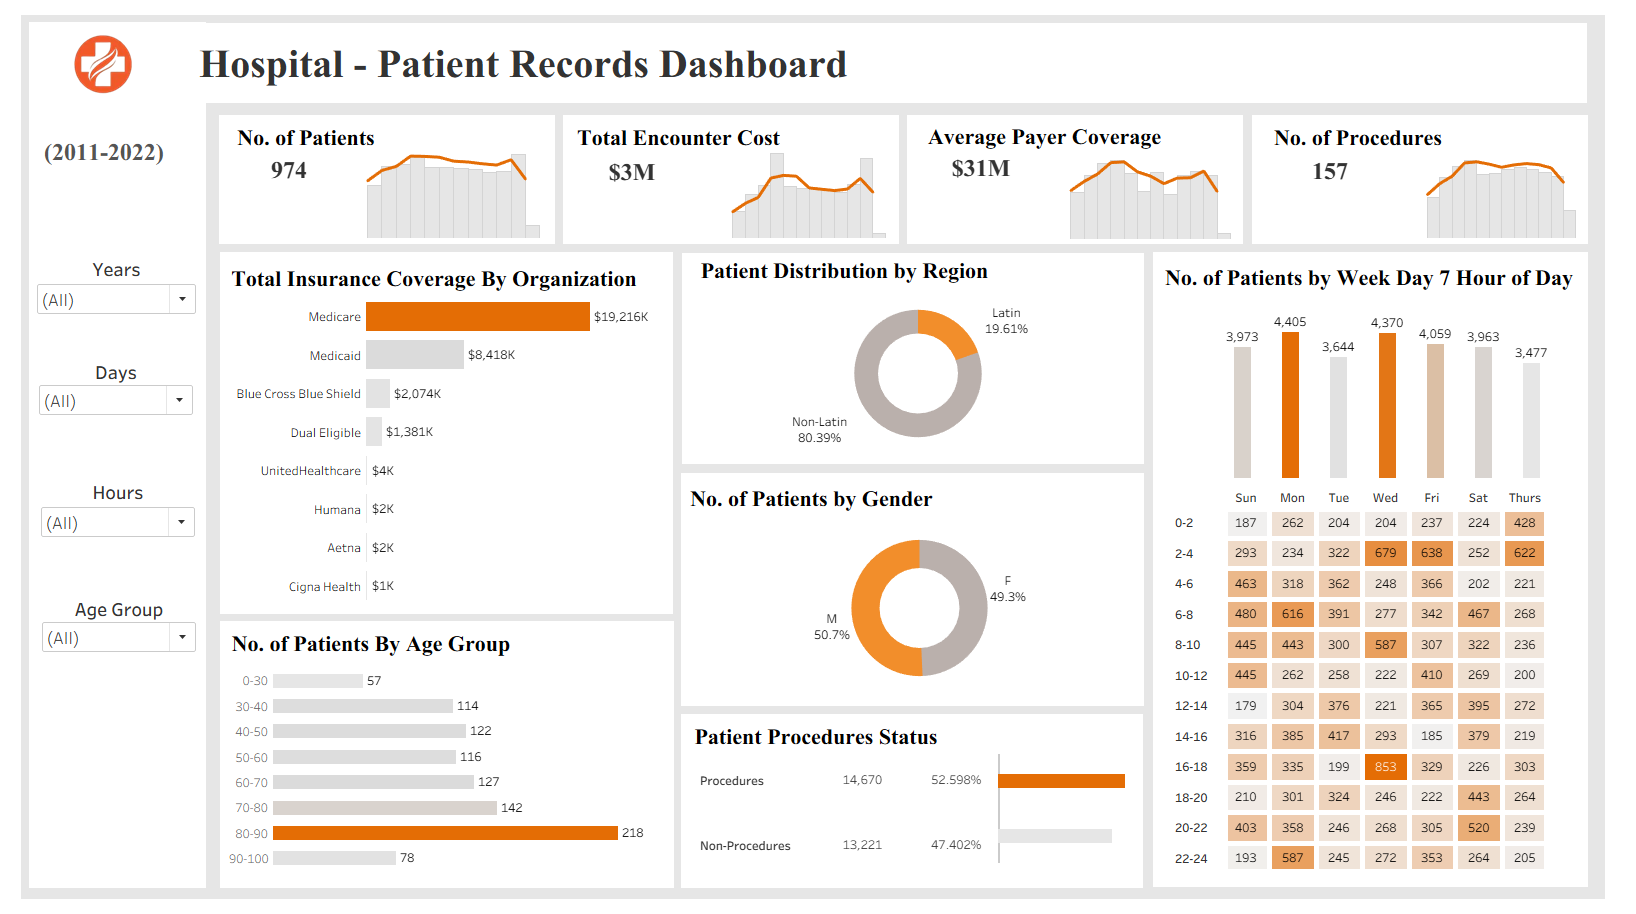

What the dashboard file says about the page in this screenshot:
{"tool":"tableau","page":{"name":"Dashboard 1","canvas":[1600,900],"ordinal":0},"visuals":[{"type":"image","param":"C:/Users/vshivani/Desktop/shivani/Tableau/9. Hospital Patient Records/images/log","box":[55,23,73,66]},{"type":"text","box":[180,32,661,50]},{"type":"text","box":[896,110,271,40]},{"type":"text","box":[1245,110,200,42]},{"type":"text","box":[210,112,166,38]},{"type":"text","box":[559,112,213,37]},{"type":"text","box":[27,130,126,31]},{"type":"worksheet","title":"Total Encounters cost vs year","mark":"Bar","rows":["BASE_ENCOUNTER_COST","BASE_ENCOUNTER_COST"],"cols":["START"],"box":[710,142,170,89]},{"type":"worksheet","title":"Avg payer coverage","mark":"Automatic","box":[911,142,113,40]},{"type":"worksheet","title":"No. of Procedures","mark":"Automatic","box":[1274,142,85,46]},{"type":"worksheet","title":"No. of Patients","mark":"Automatic","box":[228,143,95,41]},{"type":"worksheet","title":"No. of patients vs year","mark":"Bar","rows":["Id (patients.csv)","Calculation_93168222811037714"],"cols":["START"],"box":[344,143,191,88]},{"type":"worksheet","title":"Total Encounter Cost","mark":"Automatic","box":[573,147,92,37]},{"type":"worksheet","title":"Avg payer coverage vs year","mark":"Bar","rows":["PAYER_COVERAGE","PAYER_COVERAGE"],"cols":["START"],"box":[1048,149,177,83]},{"type":"worksheet","title":"No. of Procedures vs year","mark":"Bar","rows":["CODE (procedures.csv)","CODE (procedures.csv)"],"cols":["START (procedures.csv)"],"box":[1405,149,165,82]},{"type":"worksheet","title":"No. of patients %","mark":"Automatic","cols":["START"],"box":[200,174,149,46]},{"type":"worksheet","title":"Avg Payer coverage %","mark":"Automatic","cols":["START"],"box":[909,176,125,37]},{"type":"worksheet","title":"No. of procedures %","mark":"Automatic","cols":["START"],"box":[1251,179,135,37]},{"type":"worksheet","title":"Total Encounters cost %","mark":"Automatic","cols":["START"],"box":[561,181,138,36]},{"type":"filter","title":"No. of Patients","param":"[federated.0jm8h8t0hru3ty1a563c91vnn6gc].[yr:START:ok]","box":[21,249,165,60]},{"type":"text","box":[675,250,313,28]},{"type":"text","box":[1144,252,424,38]},{"type":"text","box":[213,258,416,28]},{"type":"worksheet","title":"patient distribution by Region","mark":"Pie","rows":["Calculation_93168222789865487","Calculation_93168222789865487"],"box":[758,281,294,171]},{"type":"worksheet","title":"Total insurance Coverage by Organization","mark":"Automatic","rows":["NAME (payers.csv)"],"cols":["PAYER_COVERAGE"],"box":[213,290,438,308]},{"type":"worksheet","title":"No. of Patients by week ","mark":"Automatic","rows":["PATIENT"],"cols":["Calculation_93168222827048983"],"box":[1205,301,338,170]},{"type":"filter","title":"No. of Patients by week ","param":"[federated.0jm8h8t0hru3ty1a563c91vnn6gc].[none:Calculation_93168222827048983:nk]","box":[23,352,160,56]},{"type":"filter","title":"No. of patients by hours ","param":"[federated.0jm8h8t0hru3ty1a563c91vnn6gc].[none:patients encounter hours (bin):ok","box":[25,472,160,61]},{"type":"text","box":[672,473,253,37]},{"type":"worksheet","title":"No. of patients by hours ","mark":"Square","rows":["patients encounter hours (bin)"],"cols":["Calculation_93168222827048983"],"box":[1154,478,384,391]},{"type":"worksheet","title":"No. of Patients by Gender","mark":"Pie","rows":["Calculation_93168222789865487","Calculation_93168222789865487"],"box":[757,507,299,188]},{"type":"filter","title":"No. of patients by age groups","param":"[federated.0jm8h8t0hru3ty1a563c91vnn6gc].[none: patients ages (bin):ok]","box":[26,589,160,57]},{"type":"text","box":[213,620,290,33]},{"type":"worksheet","title":"No. of patients by age groups","mark":"Automatic","rows":[" patients ages (bin)"],"cols":["Calculation_93168222819340310"],"box":[216,661,436,203]},{"type":"text","box":[677,714,252,31]},{"type":"worksheet","title":"patient procedures status values","mark":"Text","rows":["Calculation_93168222813429780"],"box":[681,741,291,129]},{"type":"worksheet","title":"Patient Procedures Status","mark":"Bar","rows":["Calculation_93168222813429780"],"cols":["PATIENT"],"box":[985,747,133,109]}]}

Visuals, with their boxes in screenshot pixels (x1, y1, x2, y2), scaled from the page's 1600x900 canvas onto the 1636x914 screenshot:
image: bbox=[56, 23, 131, 90]
text: bbox=[184, 32, 860, 83]
text: bbox=[916, 112, 1193, 152]
text: bbox=[1273, 112, 1478, 154]
text: bbox=[215, 114, 384, 152]
text: bbox=[572, 114, 789, 151]
text: bbox=[28, 132, 156, 164]
"Total Encounters cost vs year" worksheet (Bar marks): bbox=[726, 144, 900, 235]
"Avg payer coverage" worksheet: bbox=[931, 144, 1047, 185]
"No. of Procedures" worksheet: bbox=[1303, 144, 1390, 191]
"No. of Patients" worksheet: bbox=[233, 145, 330, 187]
"No. of patients vs year" worksheet (Bar marks): bbox=[352, 145, 547, 235]
"Total Encounter Cost" worksheet: bbox=[586, 149, 680, 187]
"Avg payer coverage vs year" worksheet (Bar marks): bbox=[1072, 151, 1253, 236]
"No. of Procedures vs year" worksheet (Bar marks): bbox=[1437, 151, 1605, 235]
"No. of patients %" worksheet: bbox=[204, 177, 357, 223]
"Avg Payer coverage %" worksheet: bbox=[929, 179, 1057, 216]
"No. of procedures %" worksheet: bbox=[1279, 182, 1417, 219]
"Total Encounters cost %" worksheet: bbox=[574, 184, 715, 220]
"No. of Patients" filter: bbox=[21, 253, 190, 314]
text: bbox=[690, 254, 1010, 282]
text: bbox=[1170, 256, 1603, 295]
text: bbox=[218, 262, 643, 290]
"patient distribution by Region" worksheet (Pie marks): bbox=[775, 285, 1076, 459]
"Total insurance Coverage by Organization" worksheet: bbox=[218, 295, 666, 607]
"No. of Patients by week " worksheet: bbox=[1232, 306, 1578, 478]
"No. of Patients by week " filter: bbox=[24, 357, 187, 414]
"No. of patients by hours " filter: bbox=[26, 479, 189, 541]
text: bbox=[687, 480, 946, 518]
"No. of patients by hours " worksheet (Square marks): bbox=[1180, 485, 1573, 883]
"No. of Patients by Gender" worksheet (Pie marks): bbox=[774, 515, 1080, 706]
"No. of patients by age groups" filter: bbox=[27, 598, 190, 656]
text: bbox=[218, 630, 514, 663]
"No. of patients by age groups" worksheet: bbox=[221, 671, 667, 877]
text: bbox=[692, 725, 950, 757]
"patient procedures status values" worksheet (Text marks): bbox=[696, 753, 994, 884]
"Patient Procedures Status" worksheet (Bar marks): bbox=[1007, 759, 1143, 869]
